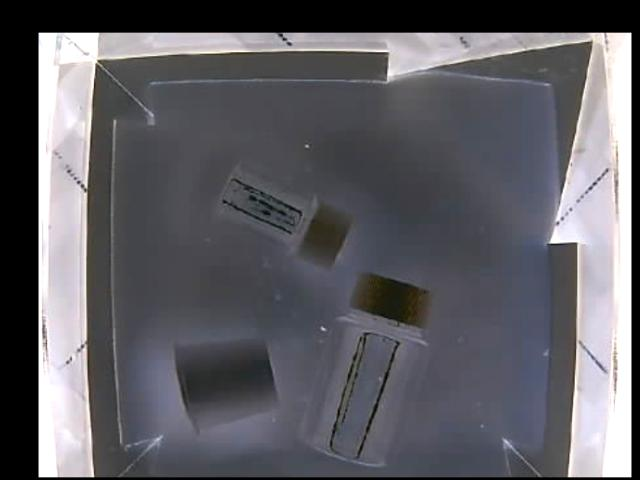Bottle: (297, 273, 433, 467), (220, 166, 352, 268)
Cup: (171, 338, 282, 435)
